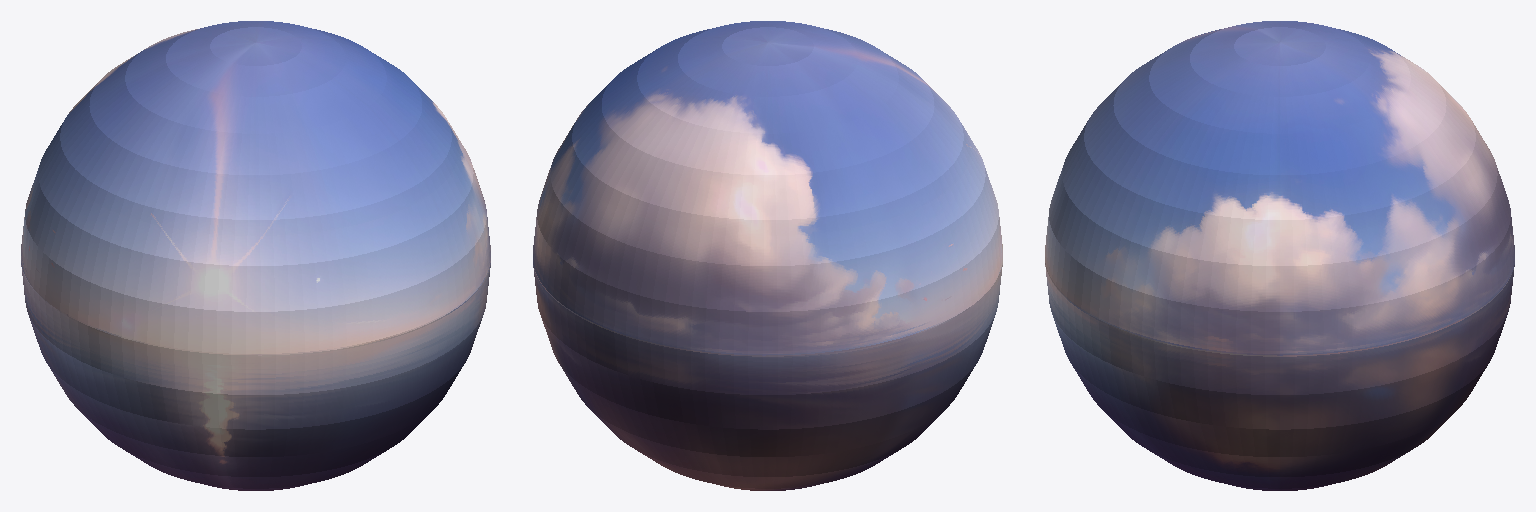
3 renders of one model, left to right at view 1: azimuth 30°, elevation 25°; view 2: azimuth 150°, elevation 25°; view 3: azimuth 270°, elevation 25°, orthographic.
Visible parts, largest first — view 1: Sphere; view 2: Sphere; view 3: Sphere.
Part boxes in pixels (x1,y1,x2,y2): Sphere: (21,21,490,490); Sphere: (533,21,1002,490); Sphere: (1045,21,1514,490).
Bounding box in the file's own units: 495 × 495 × 495.
1 materials, 1 textured.